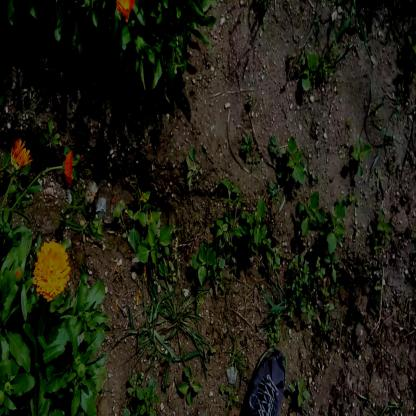marigold: (33, 242, 67, 301)
